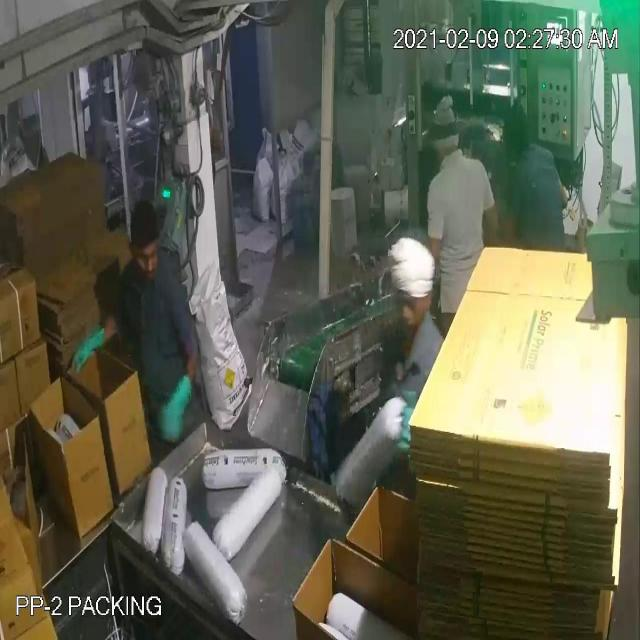Gloves: (44, 66, 177, 406)
